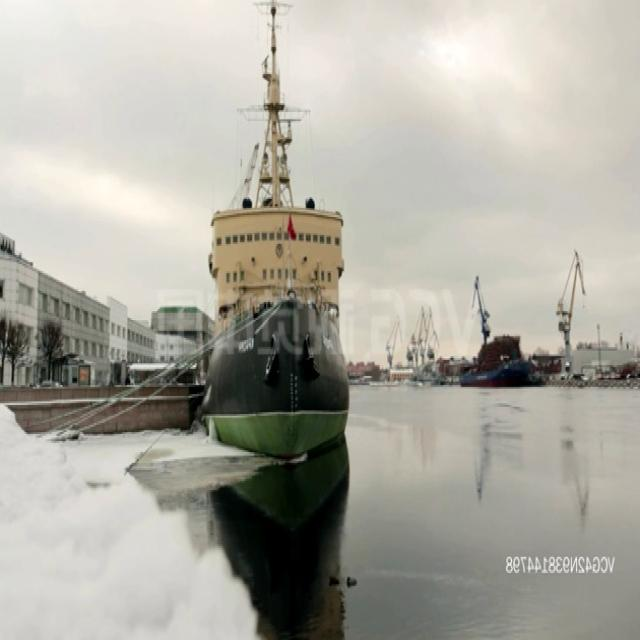navalvessels: (202, 52, 358, 453)
